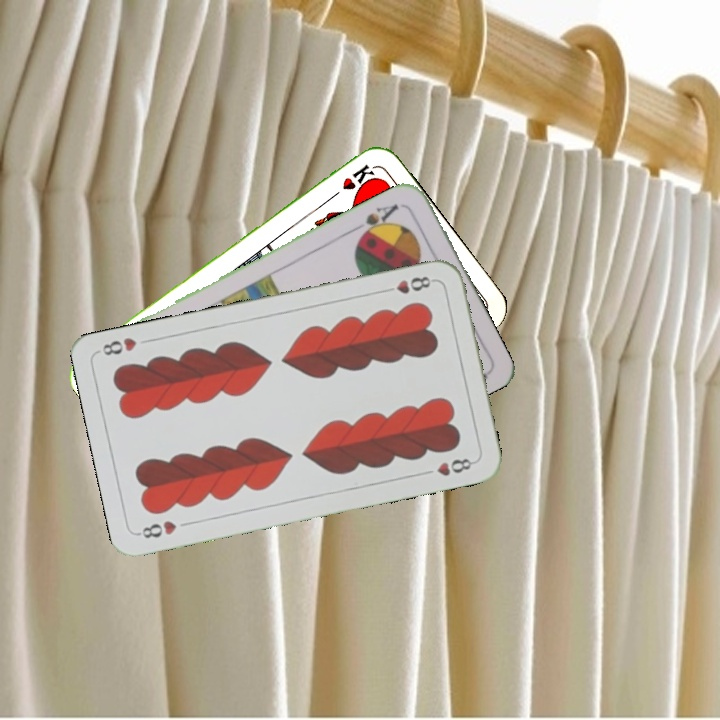H8: (379, 272, 438, 297), (135, 516, 180, 541)
HK: (324, 160, 377, 204)
SA: (350, 200, 402, 242)
